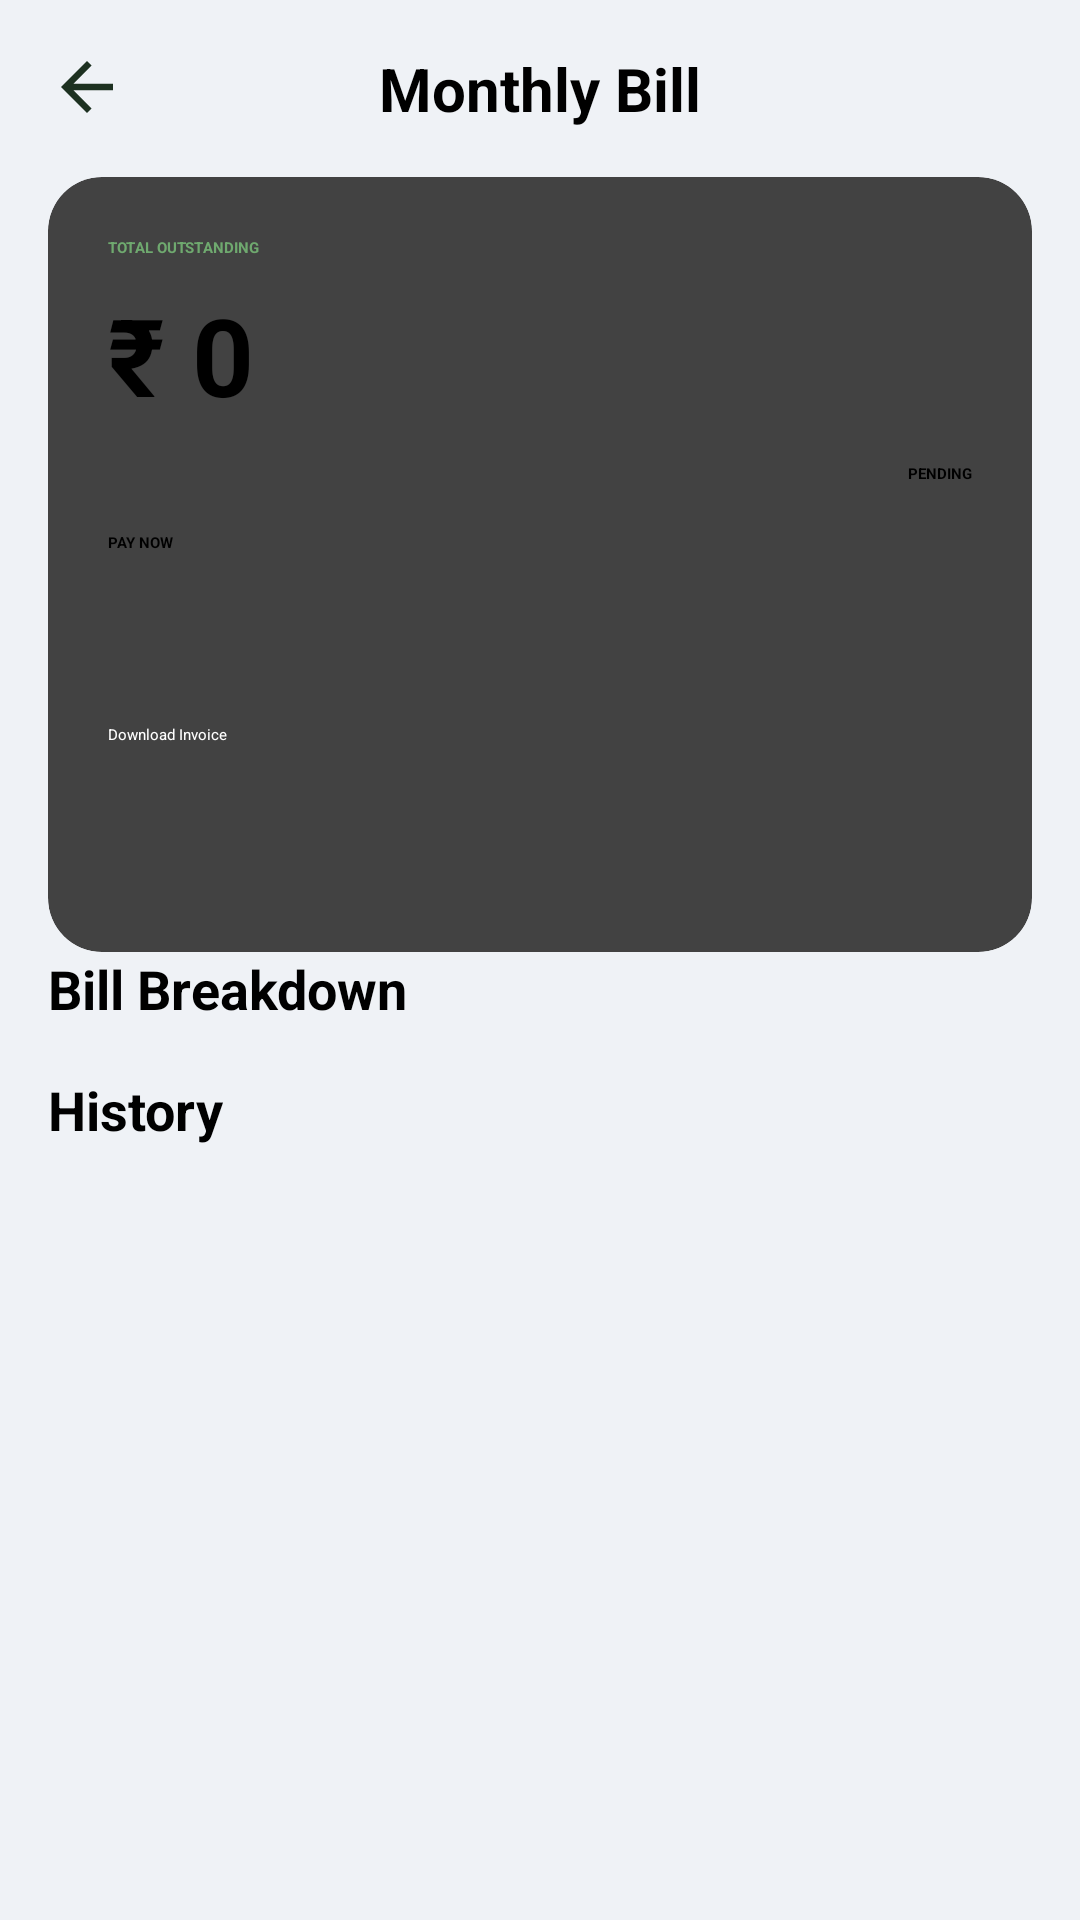

Named icons in this screenshot (1080 × 1920) and their centers, point (x, y):
back: point (87, 87)
